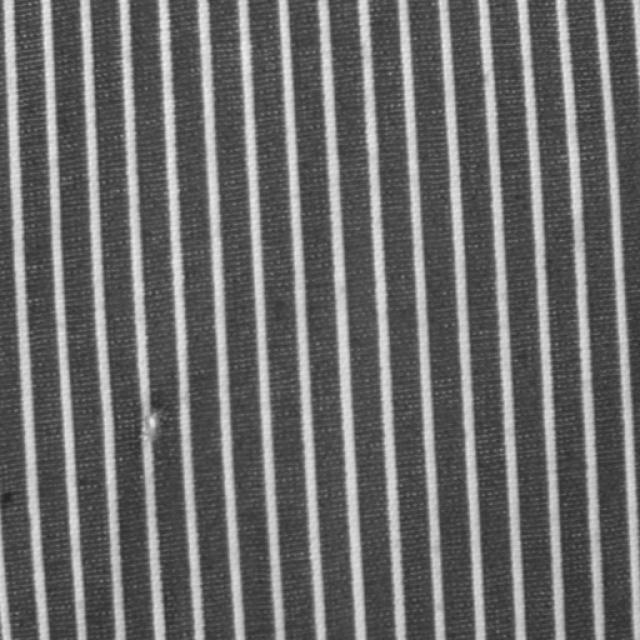Hole-Defect: (140, 404, 166, 441)
